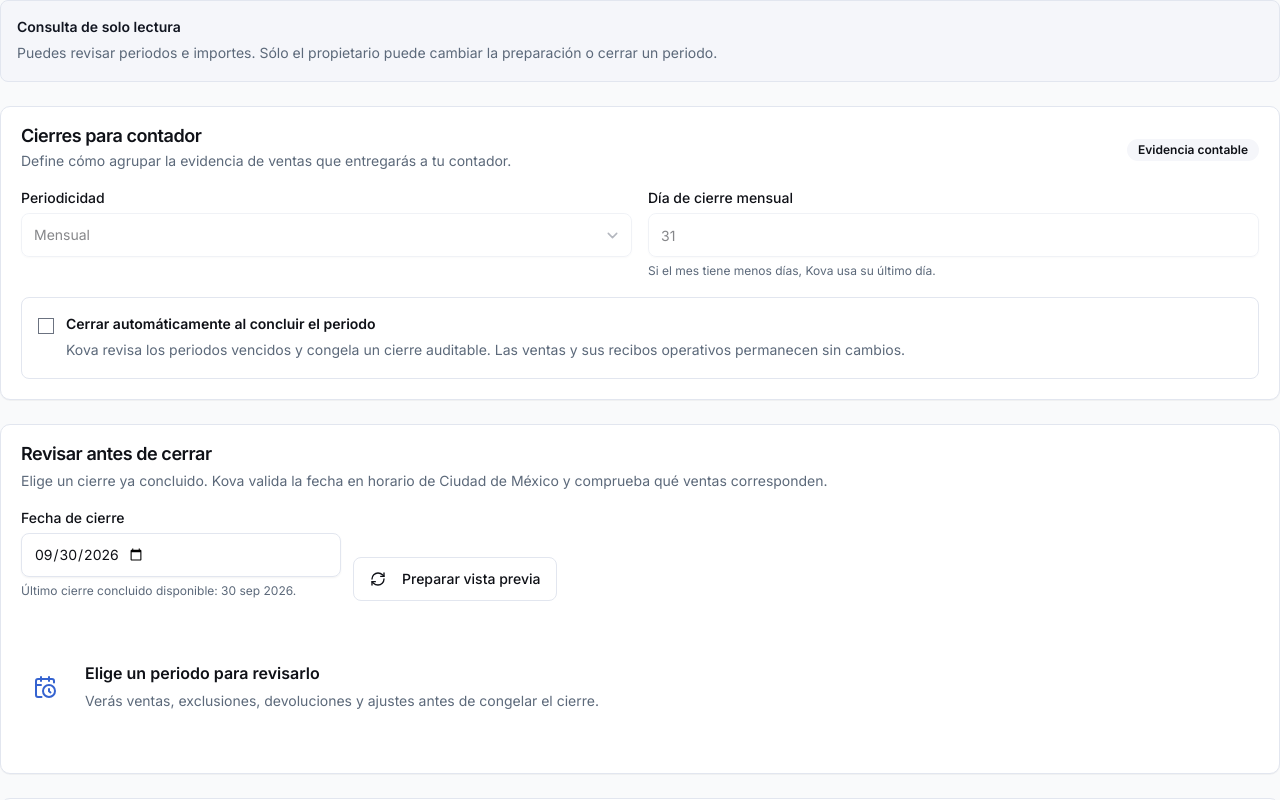
FiscalGlobalDraftsPanel › keeps a manager in read-only mode while allowing preview
Expected: the text "Consulta de solo lectura" is shown, [17, 18, 181, 35]
Expected: the dropdown labelled "Periodicidad" is disabled, [21, 213, 632, 257]
In the date field labelled "Fecha de cierre": (181, 555) [21, 533, 341, 577], type "2024-02-29"
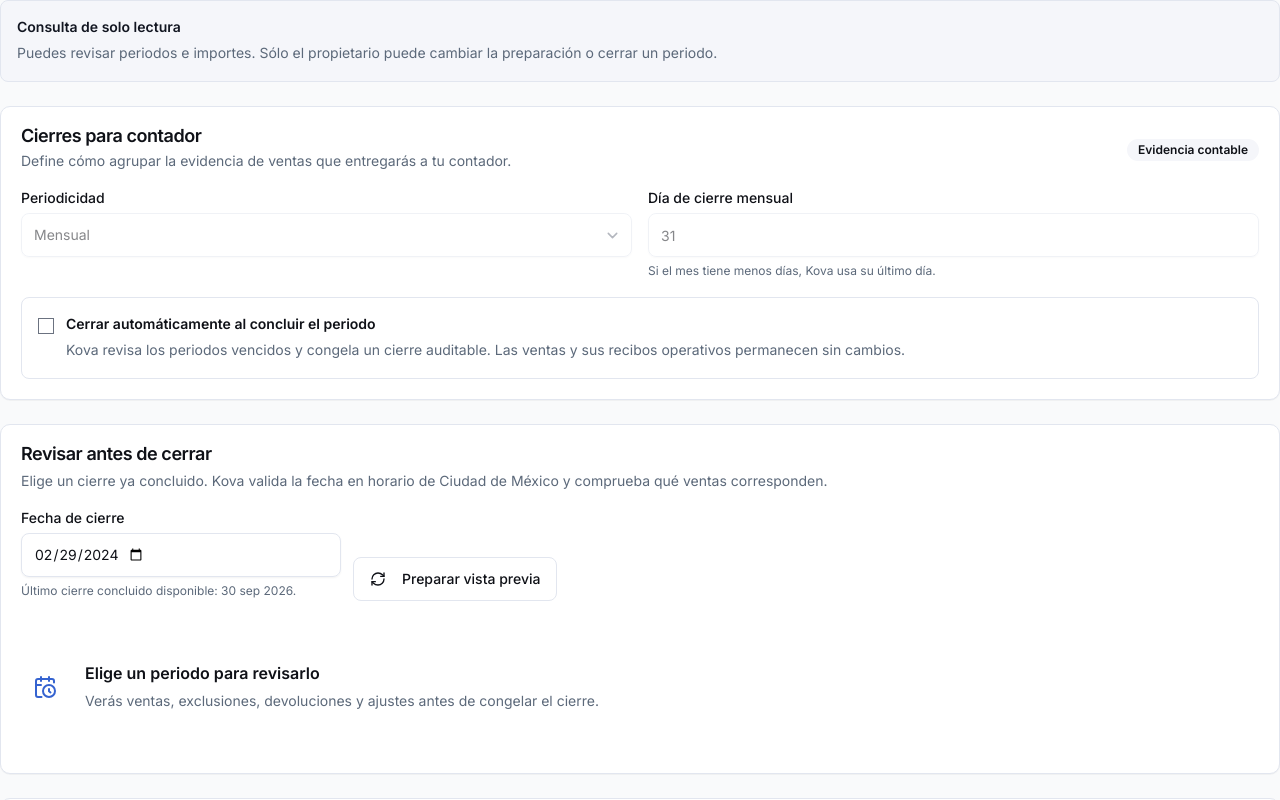
Click the button "Preparar vista previa": (455, 579) [353, 557, 558, 601]
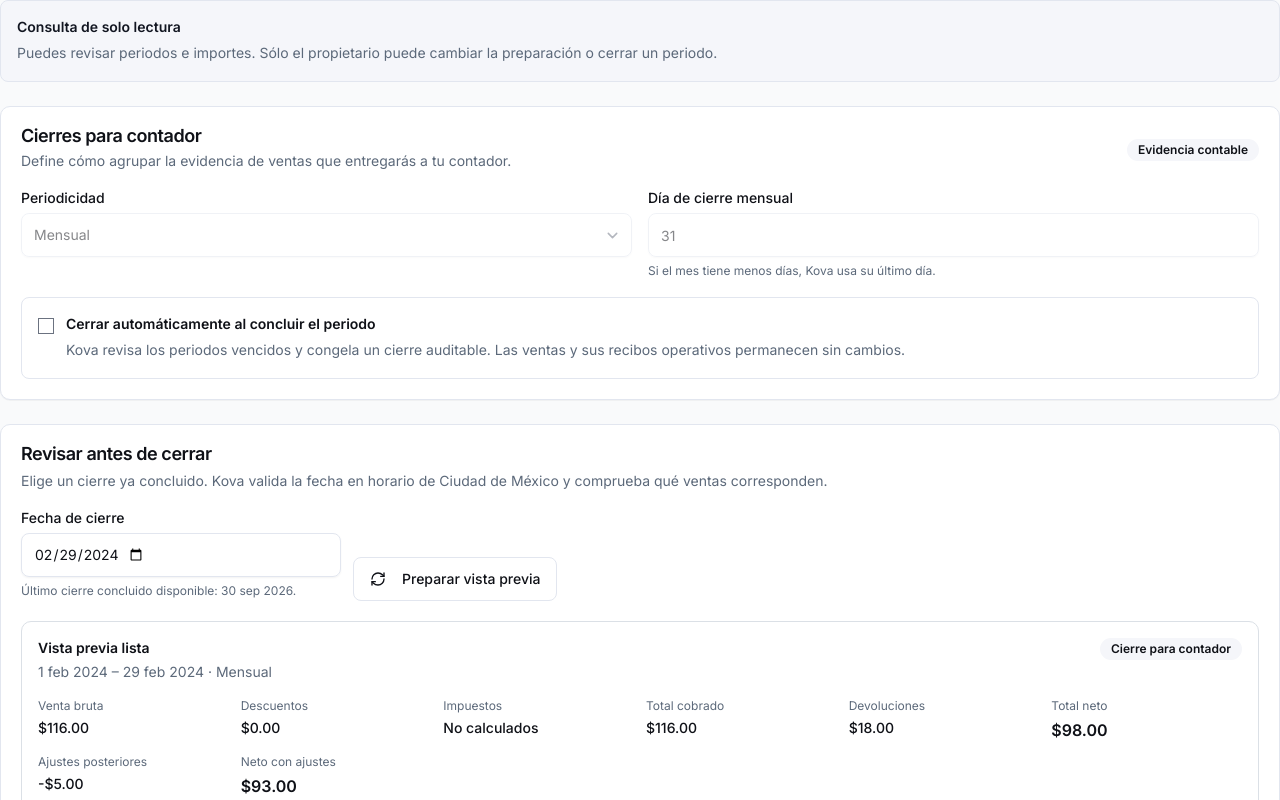
Expected: the text "Vista previa lista" is shown, [38, 639, 150, 656]
